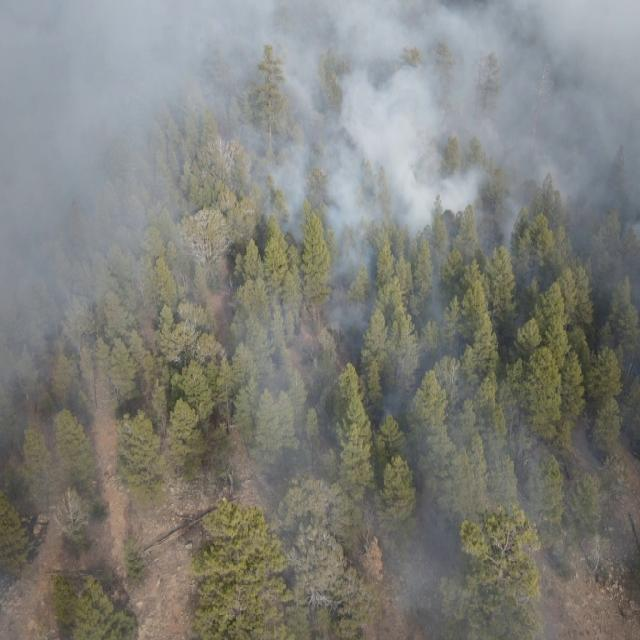smoke: (213, 227, 640, 640), (0, 1, 640, 227), (0, 371, 120, 640), (0, 225, 212, 369)
